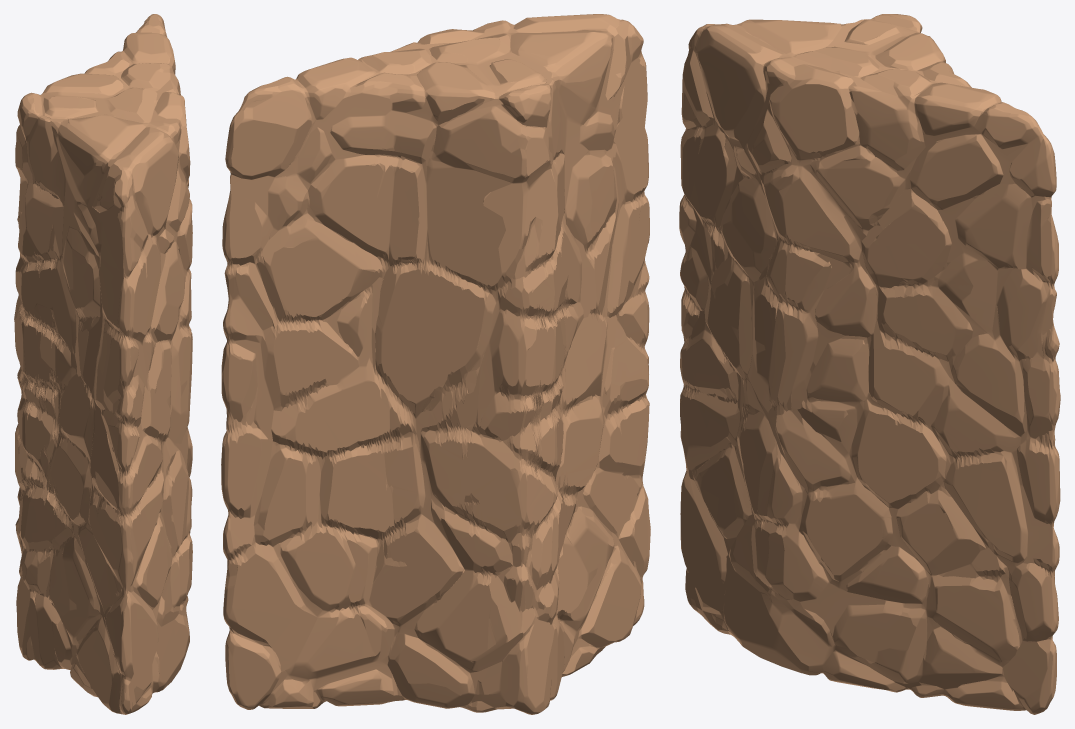
3 views of the same model, side by side, from view 1: azimuth 30°, elevation 25°; view 2: azimuth 150°, elevation 25°; view 3: azimuth 270°, elevation 25° (orthographic). The views are drawn at different scales.
Visible parts, largest first — view 1: Mesh_4_LOD0; view 2: Mesh_4_LOD0; view 3: Mesh_4_LOD0.
Boxes of the visible parts, x1,y1,x2,y2 form: Mesh_4_LOD0: (14, 14, 192, 714); Mesh_4_LOD0: (221, 14, 650, 714); Mesh_4_LOD0: (679, 14, 1060, 714).
Size of what is drawn, in the model's own units: 2894 by 7068 by 4028.
